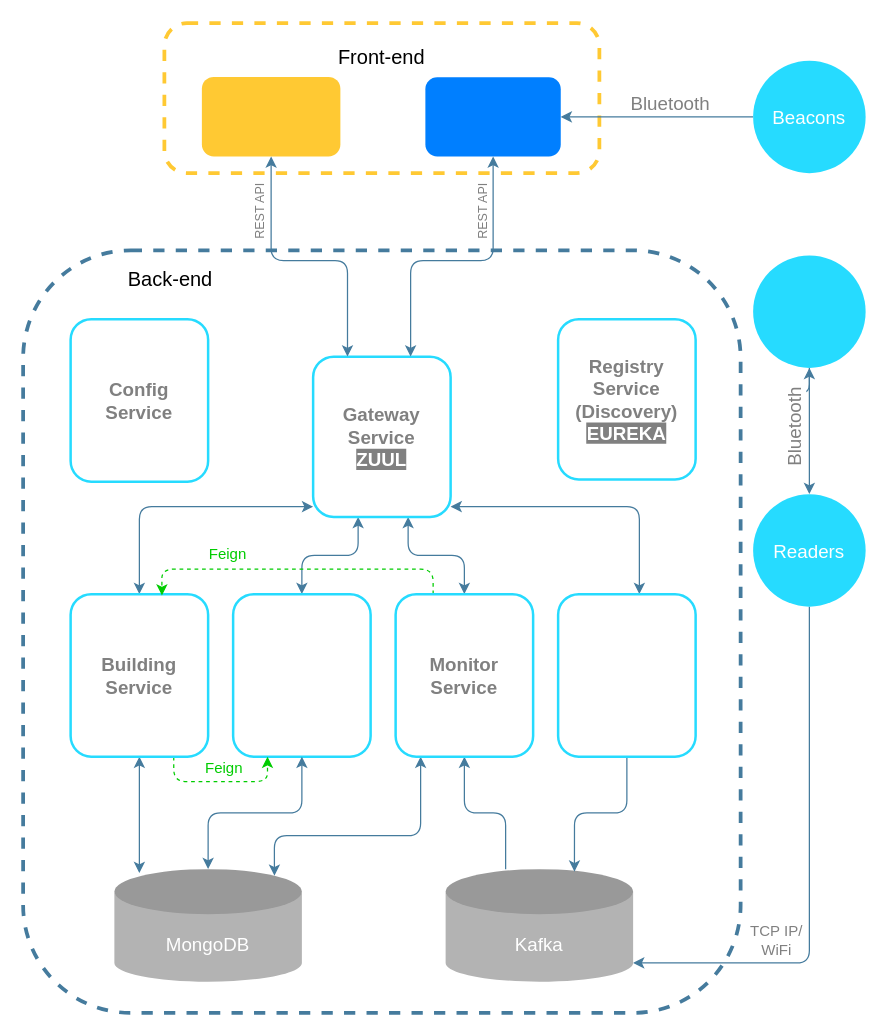
This 888x1036 diagram has some shape labels left out. The centre of each missing label's shape, as x and y in pixels:
Android app: (x=492, y=116)
Mobile Service: (x=626, y=674)
UAA Service: (x=301, y=674)
Web app: (x=270, y=116)
Wristband: (x=808, y=311)
